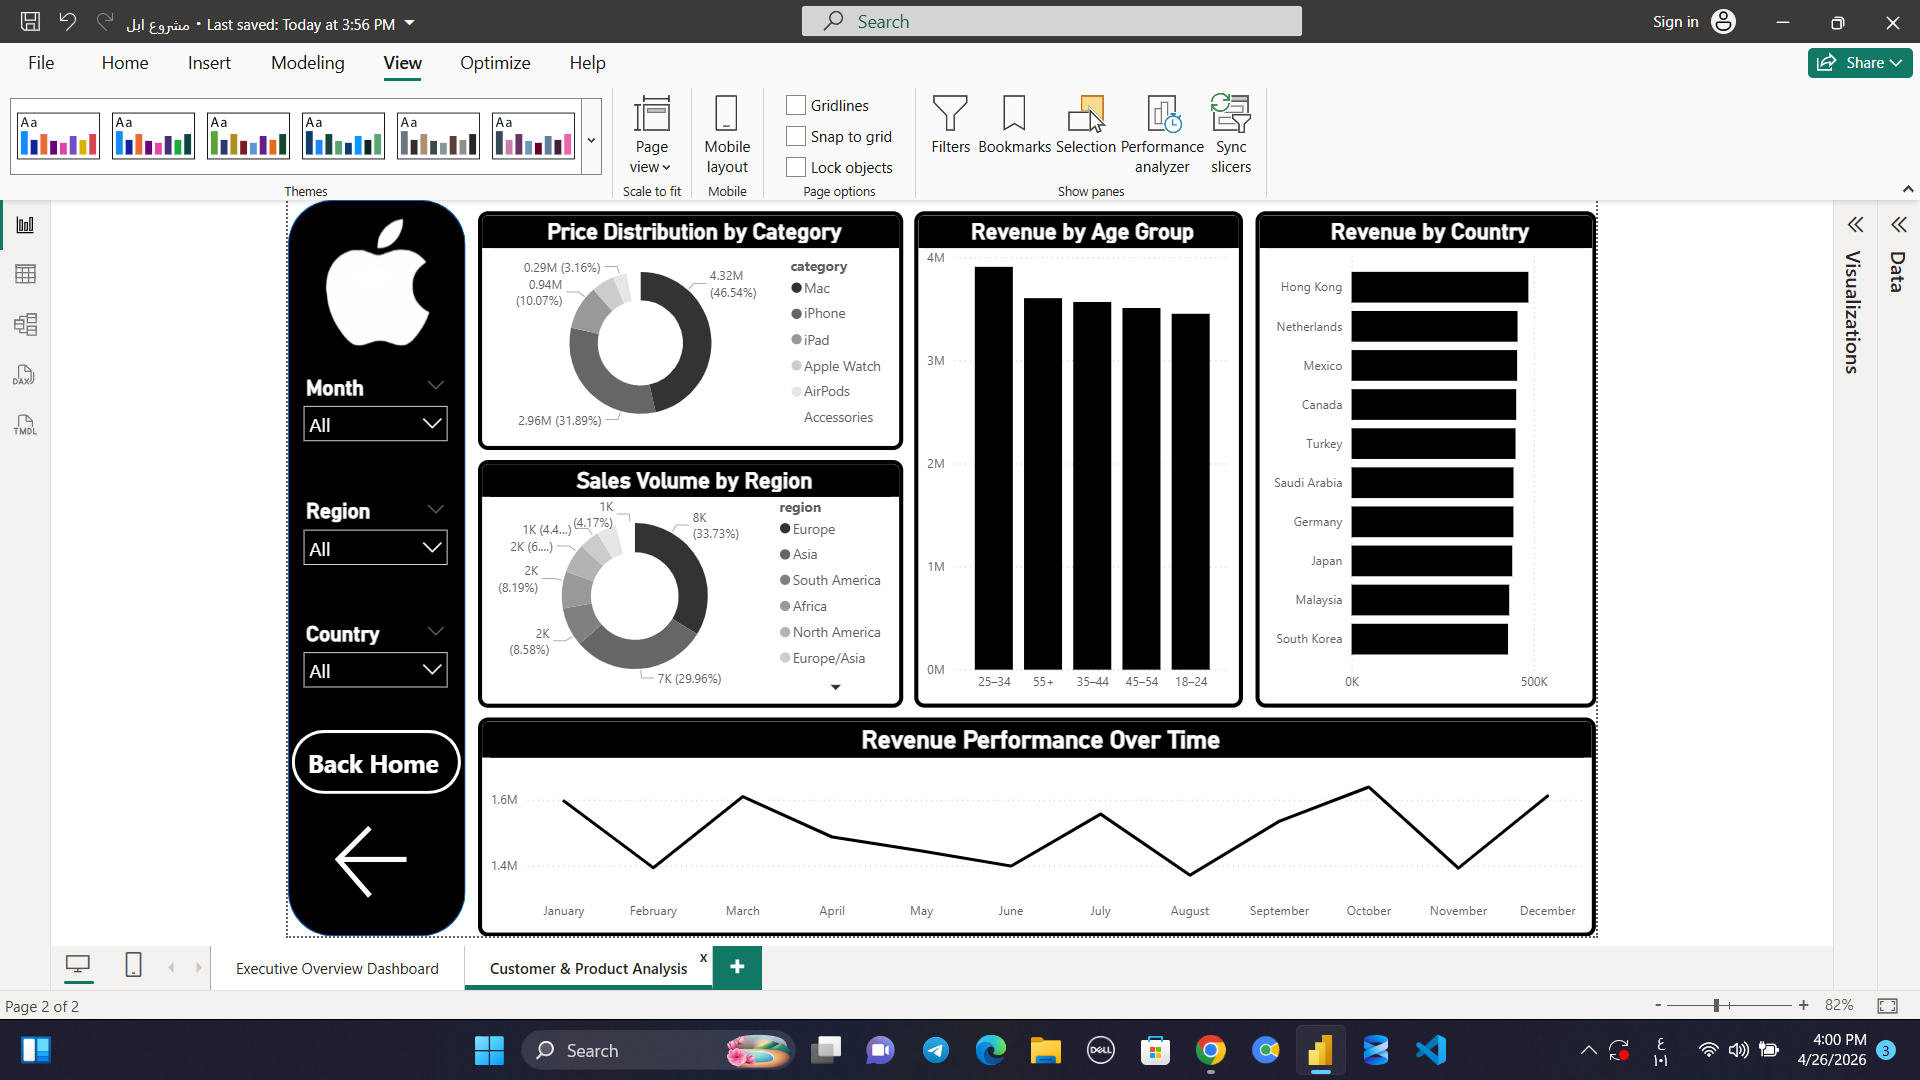

Layout of this report page (visuals, bound fields, positions):
{"tool":"powerbi","page":{"name":"Customer & Product Analysis","canvas":[1280,720],"ordinal":1},"visuals":[{"type":"shape","box":[0,0,173.6,720.2],"z":0},{"type":"actionButton","box":[0,0,171.1,178.1],"z":1000},{"type":"lineChart","title":"Revenue Performance Over Time","fields":{"Category":["apple_global_sales_dataset.sale_date.Variation.Date Hierarchy.Month"],"Y":["Sum(apple_global_sales_dataset.revenue_usd)"]},"box":[186.4,506.4,1093.6,214.3],"z":2000},{"type":"barChart","title":"Revenue by Country","fields":{"Category":["apple_global_sales_dataset.country"],"Y":["Sum(apple_global_sales_dataset.revenue_usd)"]},"box":[946.5,11,333.8,485.5],"z":3000},{"type":"columnChart","title":"Revenue by Age Group","fields":{"Y":["Sum(apple_global_sales_dataset.revenue_usd)"],"Category":["apple_global_sales_dataset.customer_age_group"]},"box":[612.6,11,321.6,485.5],"z":4000},{"type":"donutChart","title":"Price Distribution by Category","fields":{"Category":["apple_global_sales_dataset.category"],"Y":["Sum(apple_global_sales_dataset.unit_price_usd)"]},"box":[185.9,11,415.8,233.6],"z":5000},{"type":"donutChart","title":"Sales Volume by Region","fields":{"Y":["Sum(apple_global_sales_dataset.units_sold)"],"Category":["apple_global_sales_dataset.region"]},"box":[185.9,254.3,415.8,242.1],"z":6000},{"type":"slicer","fields":{"Values":["apple_global_sales_dataset.month"]},"box":[4.9,166.3,161.4,99],"z":7000},{"type":"slicer","fields":{"Values":["apple_global_sales_dataset.region"]},"box":[4.9,287.4,161.4,97.8],"z":8000},{"type":"slicer","fields":{"Values":["apple_global_sales_dataset.country"]},"box":[4.9,407.2,161.4,99],"z":9000},{"type":"group","id":"g1","title":"Group 1","box":[3.7,518.5,165.1,62.4],"z":10000},{"type":"actionButton","box":[40.4,605.3,182.2,84.4],"z":11000},{"type":"shape","box":[3.7,518.5,165.6,62.6],"z":18000,"group":"g1"},{"type":"actionButton","box":[14.8,531,137.7,40.3],"z":19000,"group":"g1"}]}

Visuals, with their boxes on the page's 1280x720 design canvas (x1, y1, x2, y2). These are canvas units, not pixel positions in the 1920x1080 screenshot, which may show the page scaled, cropped or inside an application window:
shape: 0 0 174 720
actionButton: 0 0 171 178
"Revenue Performance Over Time" lineChart: 186 506 1280 721
"Revenue by Country" barChart: 946 11 1280 496
"Revenue by Age Group" columnChart: 613 11 934 496
"Price Distribution by Category" donutChart: 186 11 602 245
"Sales Volume by Region" donutChart: 186 254 602 496
slicer - apple_global_sales_dataset.month: 5 166 166 265
slicer - apple_global_sales_dataset.region: 5 287 166 385
slicer - apple_global_sales_dataset.country: 5 407 166 506
"Group 1" group: 4 518 169 581
actionButton: 40 605 223 690
shape: 4 518 169 581
actionButton: 15 531 152 571
